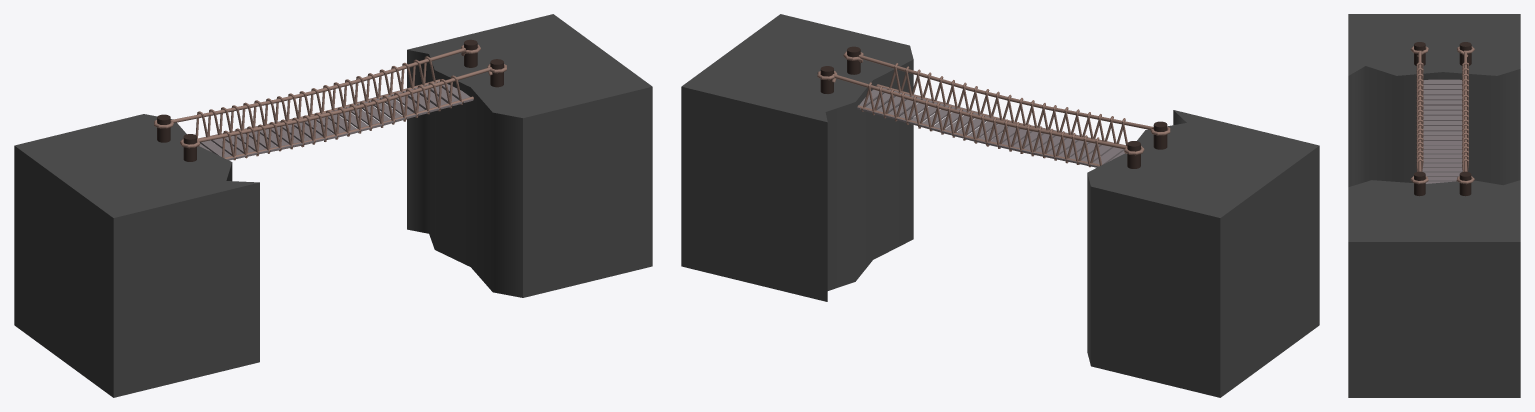
The model's file is TT_Rope_bridge.fbx.
The picture shows the model from 3 angles, left to right: view 1: azimuth 30°, elevation 25°; view 2: azimuth 150°, elevation 25°; view 3: azimuth 270°, elevation 25°; orthographic projection. The views are drawn at different scales.
Parts seen in each view (by area): view 1: Indian_Main_For_exporting_Rope_Bridge_Cliffs; view 2: Indian_Main_For_exporting_Rope_Bridge_Cliffs; view 3: Indian_Main_For_exporting_Rope_Bridge_Cliffs.
Boxes of the visible parts, x1,y1,x2,y2 form: Indian_Main_For_exporting_Rope_Bridge_Cliffs: (14,14,652,397); Indian_Main_For_exporting_Rope_Bridge_Cliffs: (681,14,1319,397); Indian_Main_For_exporting_Rope_Bridge_Cliffs: (1348,14,1520,397).
Bounding box in the file's own units: 3189 × 1144 × 1017.
